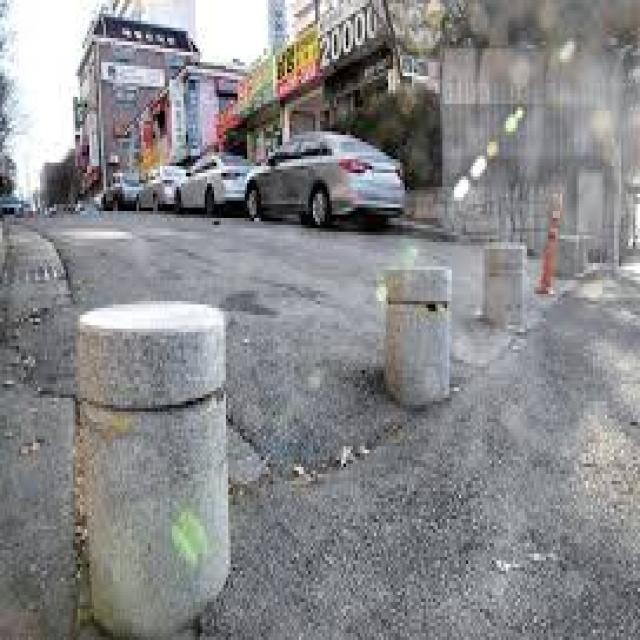bollard: (71, 295, 240, 638), (378, 262, 461, 414), (478, 230, 531, 335), (536, 170, 571, 314)
